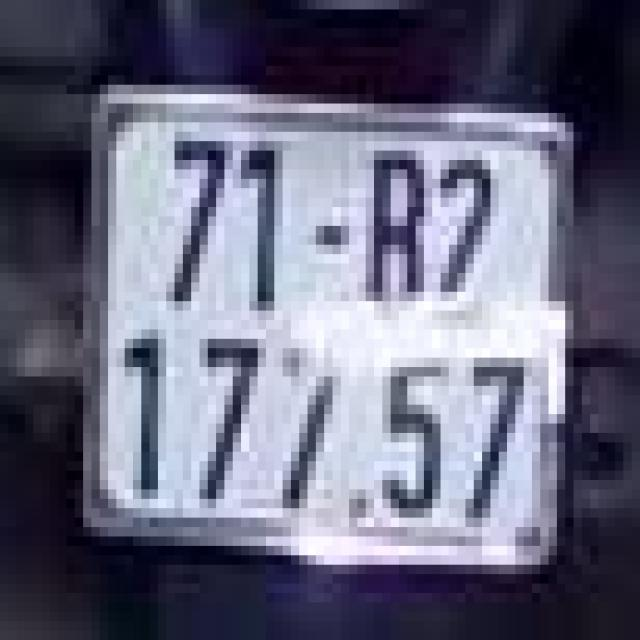1: (233, 127, 299, 315), (116, 325, 174, 513)
2: (432, 150, 507, 310)
5: (378, 334, 453, 522)
7: (457, 348, 540, 536), (154, 122, 237, 302), (191, 325, 266, 513), (274, 330, 349, 518)
R: (353, 136, 428, 324)
